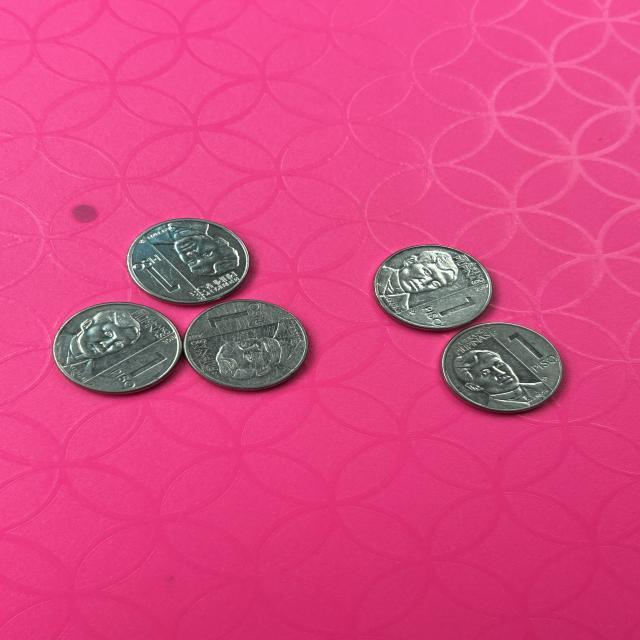1_New_Front: (500, 326, 555, 381), (108, 346, 170, 391), (127, 258, 184, 302), (201, 298, 268, 335), (425, 290, 466, 328)
